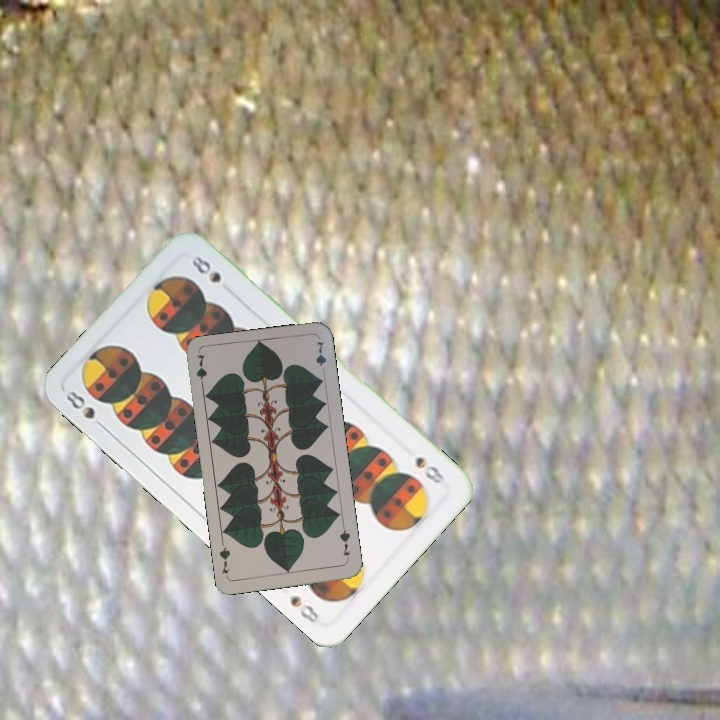G7: (335, 523, 353, 563), (192, 351, 209, 392)
S8: (61, 386, 109, 433), (411, 452, 448, 486)
